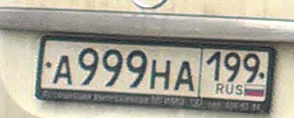character: (101, 45, 125, 88), (125, 47, 149, 90), (76, 46, 101, 87), (173, 61, 197, 94), (149, 58, 172, 90), (53, 54, 75, 87), (222, 49, 241, 83), (242, 51, 261, 84), (204, 49, 222, 81)
